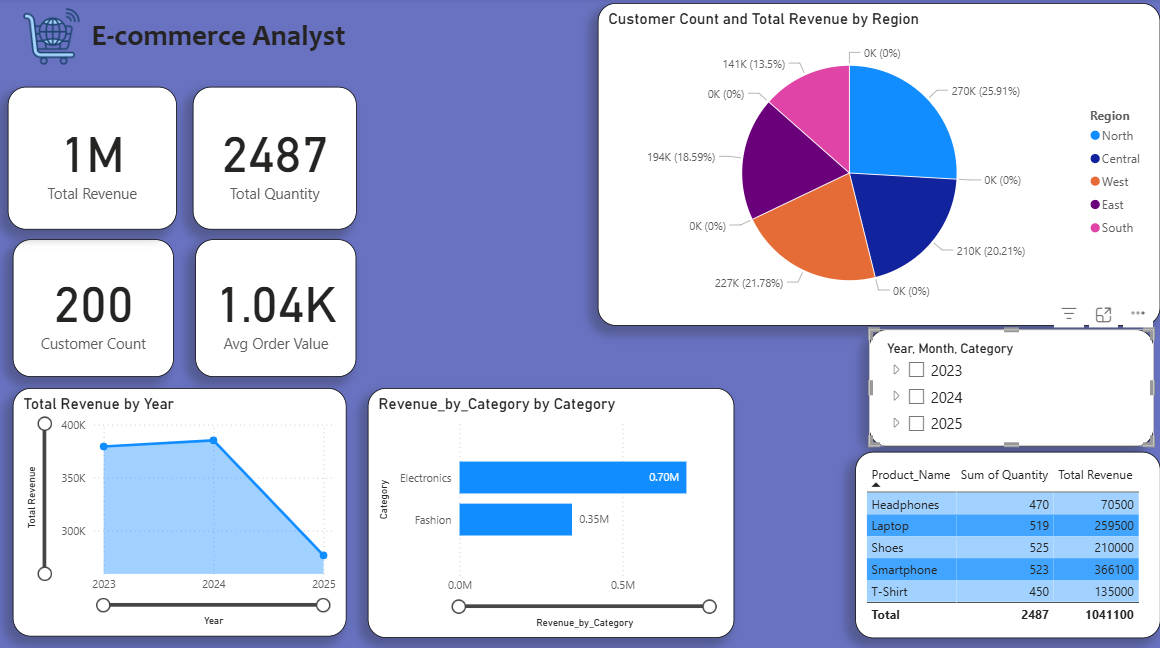

Layout of this report page (visuals, bound fields, positions):
{"tool":"powerbi","page":{"name":"Page 1","canvas":[1280,720],"ordinal":0},"visuals":[{"type":"card","fields":{"Values":["Sales.Total Quantity"]},"box":[212.7,97.4,179.8,156.4],"z":0},{"type":"card","fields":{"Values":["Sales.Customer Count"]},"box":[15.1,264.8,177,150.9],"z":1000},{"type":"card","fields":{"Values":["Sales.Avg Order Value"]},"box":[215.4,264.8,177,150.9],"z":2000},{"type":"clusteredBarChart","fields":{"Category":["Products.Category"],"Y":["Sales.Revenue_by_Category"]},"box":[404.8,428.1,402.1,274.4],"z":3000},{"type":"lineChart","fields":{"Category":["Sales.Date.Variation.Date Hierarchy.Year","Sales.Date.Variation.Date Hierarchy.Quarter","Sales.Date.Variation.Date Hierarchy.Month","Sales.Date.Variation.Date Hierarchy.Day"],"Y":["Sales.Total Revenue"]},"box":[15.1,428.1,366.4,273.1],"z":4000},{"type":"pieChart","fields":{"Category":["Customers.Region"],"Y":["Sales.Customer Count","Sales.Total Revenue"]},"box":[657.3,5.5,617.5,354],"z":5000},{"type":"slicer","fields":{"Values":["Sales.Date.Variation.Date Hierarchy.Year","Sales.Date.Variation.Date Hierarchy.Month","Products.Category"]},"box":[955.1,363.6,312.9,129],"z":6000},{"type":"tableEx","fields":{"Values":["Products.Product_Name","Sum(Sales.Quantity)","Sales.Total Revenue"]},"box":[940,498.1,334.8,204.5],"z":7000},{"type":"textbox","box":[54.9,16.5,349.9,63.1],"z":8000},{"type":"image","box":[5.5,5.5,104.3,74.1],"z":9000},{"type":"card","fields":{"Values":["Sales.Total Revenue"]},"box":[9.6,97.4,185.2,156.4],"z":10500}]}

Visuals, with their boxes in screenshot pixels (x1, y1, x2, y2), scaled from the page's 1280x720 canvas onto the 1160x648 screenshot:
card - Sales.Total Quantity: pyautogui.locateOnScreen(193, 88, 356, 228)
card - Sales.Customer Count: pyautogui.locateOnScreen(14, 238, 174, 374)
card - Sales.Avg Order Value: pyautogui.locateOnScreen(195, 238, 356, 374)
clusteredBarChart - Products.Category x Sales.Revenue_by_Category: pyautogui.locateOnScreen(367, 385, 731, 632)
lineChart - Sales.Date.Variation.Date Hierarchy.Year x Sales.Date.Variation.Date Hierarchy.Quarter: pyautogui.locateOnScreen(14, 385, 346, 631)
pieChart - Customers.Region x Sales.Customer Count: pyautogui.locateOnScreen(596, 5, 1155, 324)
slicer - Sales.Date.Variation.Date Hierarchy.Year x Sales.Date.Variation.Date Hierarchy.Month: pyautogui.locateOnScreen(866, 327, 1149, 443)
tableEx - Products.Product_Name x Sum(Sales.Quantity): pyautogui.locateOnScreen(852, 448, 1155, 632)
textbox: pyautogui.locateOnScreen(50, 15, 367, 72)
image: pyautogui.locateOnScreen(5, 5, 100, 72)
card - Sales.Total Revenue: pyautogui.locateOnScreen(9, 88, 177, 228)
